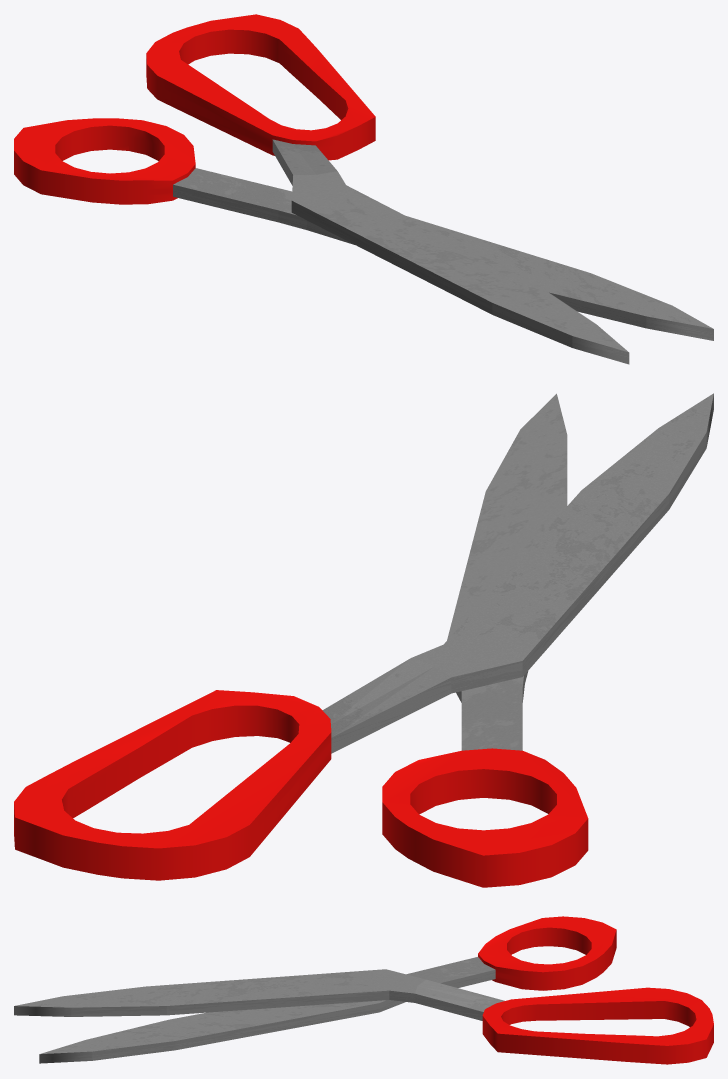
The model's file is Sissors.fbx.
3 renders of one model, top to bottom at view 1: azimuth 30°, elevation 25°; view 2: azimuth 150°, elevation 25°; view 3: azimuth 270°, elevation 25°, orthographic. The views are drawn at different scales.
Parts seen in each view (by area): view 1: sissors001, sissors; view 2: sissors001, sissors; view 3: sissors001, sissors.
Boxes of the visible parts, bbox=[...] form: sissors001: bbox=[146, 14, 629, 364]; sissors: bbox=[14, 118, 713, 340]; sissors001: bbox=[14, 393, 713, 880]; sissors: bbox=[382, 393, 588, 887]; sissors001: bbox=[14, 969, 713, 1064]; sissors: bbox=[39, 916, 616, 1063].
Bounding box in the file's own units: 36.09 × 3.03 × 80.16.
